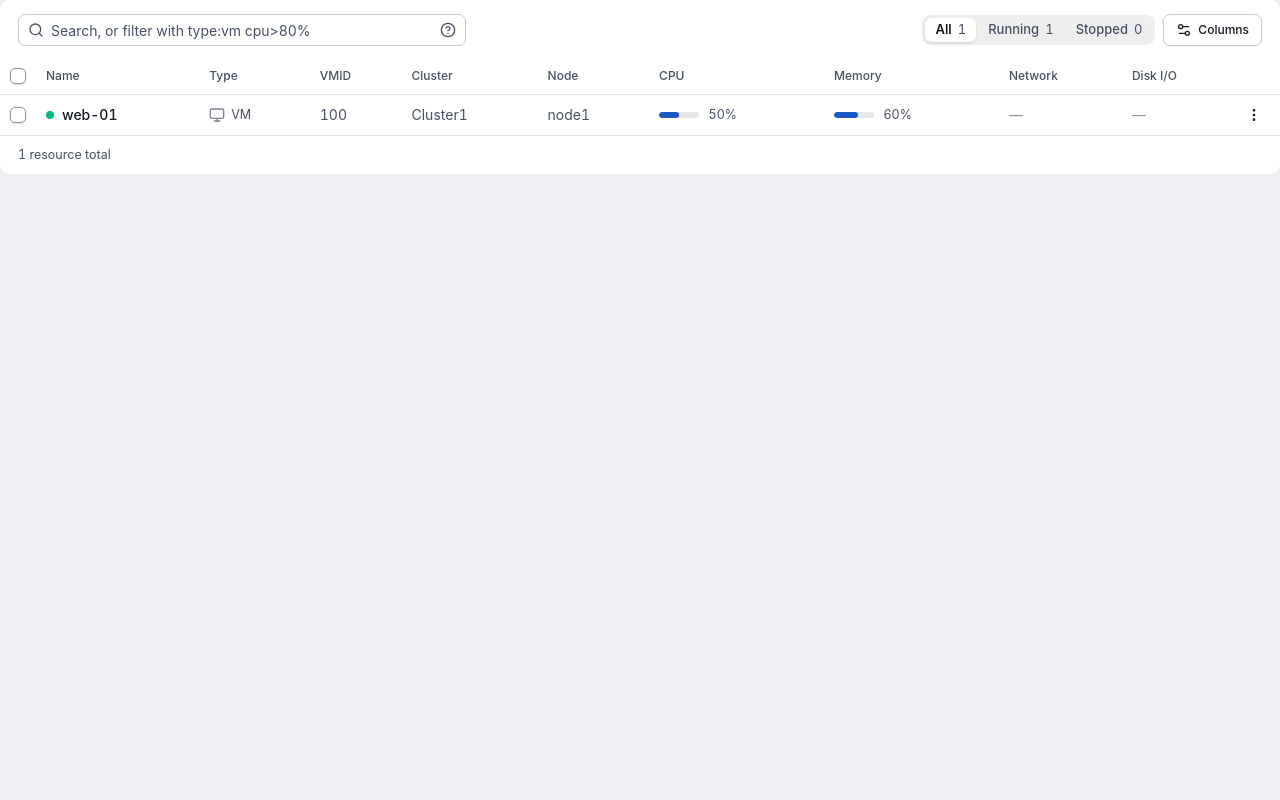
Test: ResourceTable › asks before a bulk shutdown in the verb's words
Click the checkbox named "Select row".
click(18, 114)  # box [10,106,26,122]
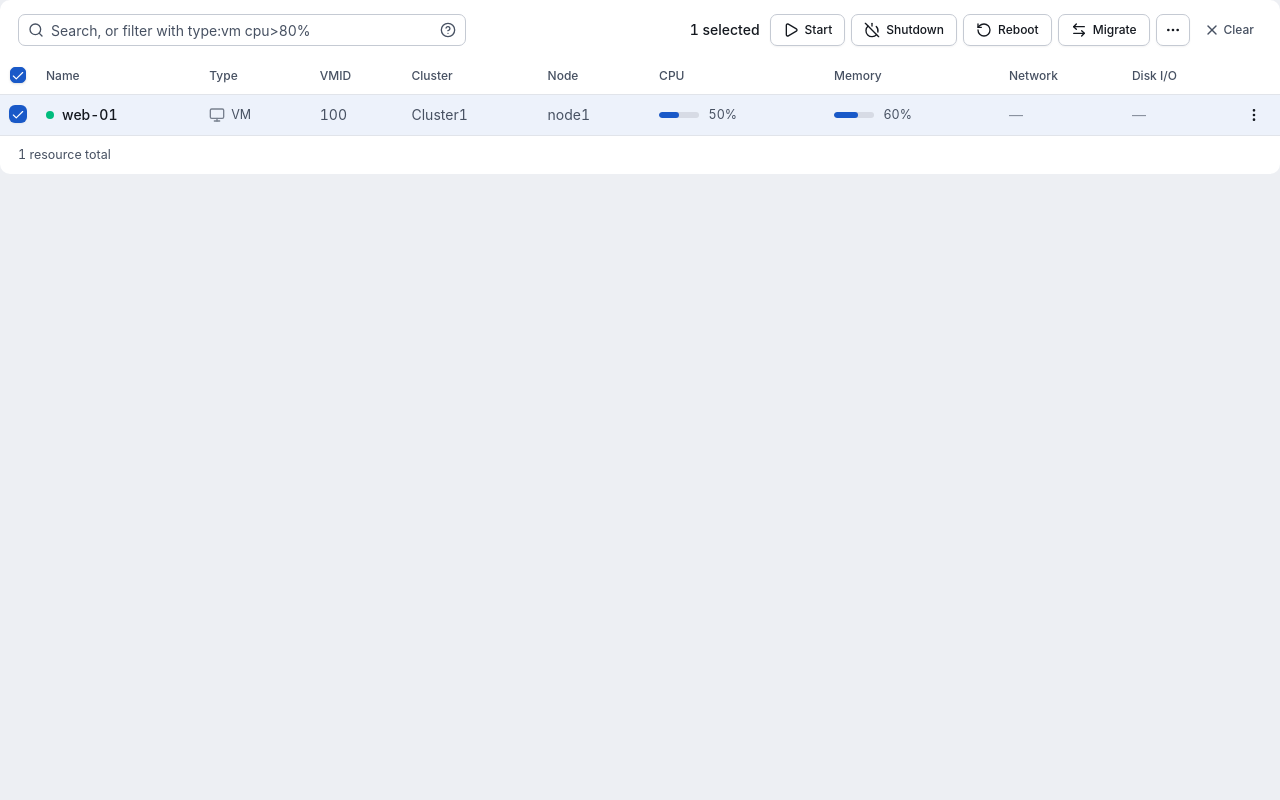
Click the button "Shutdown".
click(904, 30)  # box [851,14,957,46]
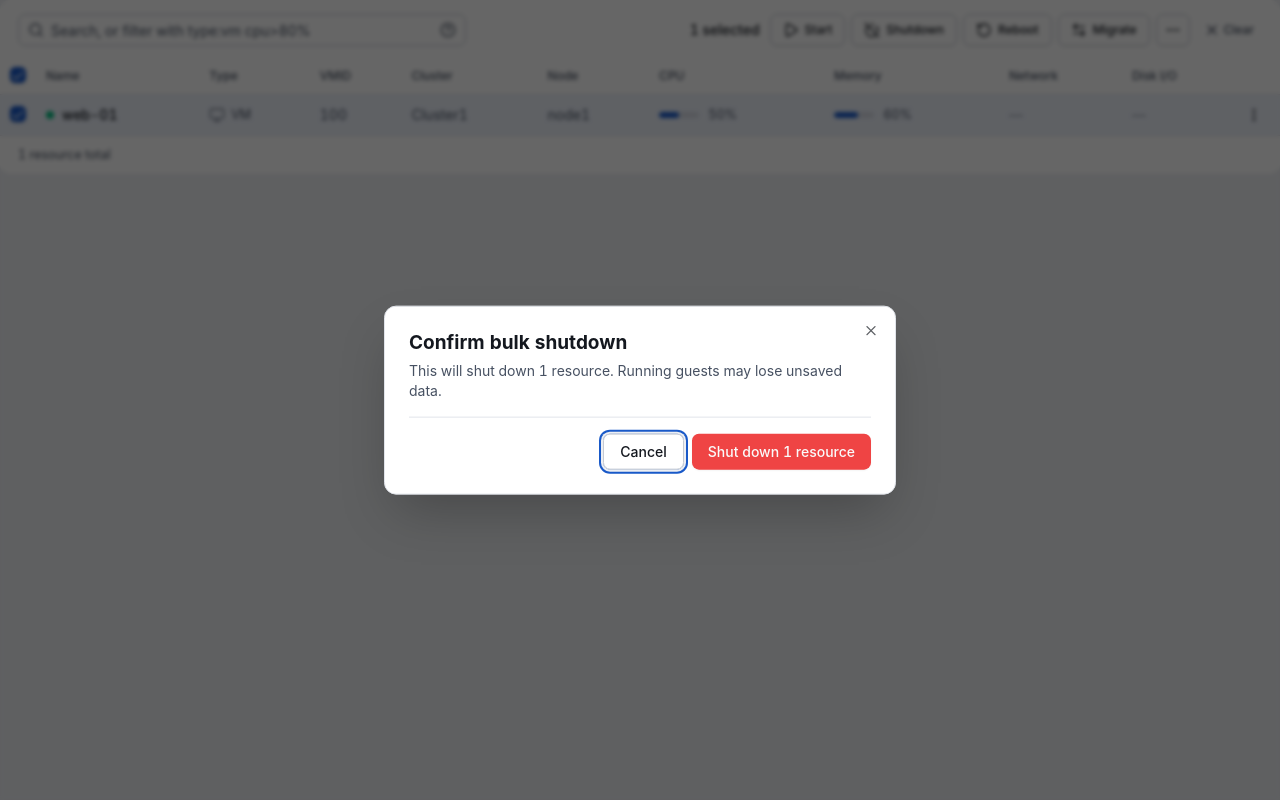
expect the text "This will shut down 1 resource." is shown: met, box [409,360,871,400]
expect the button "Shut down 1 resource" is shown: met, box [692,433,871,469]
